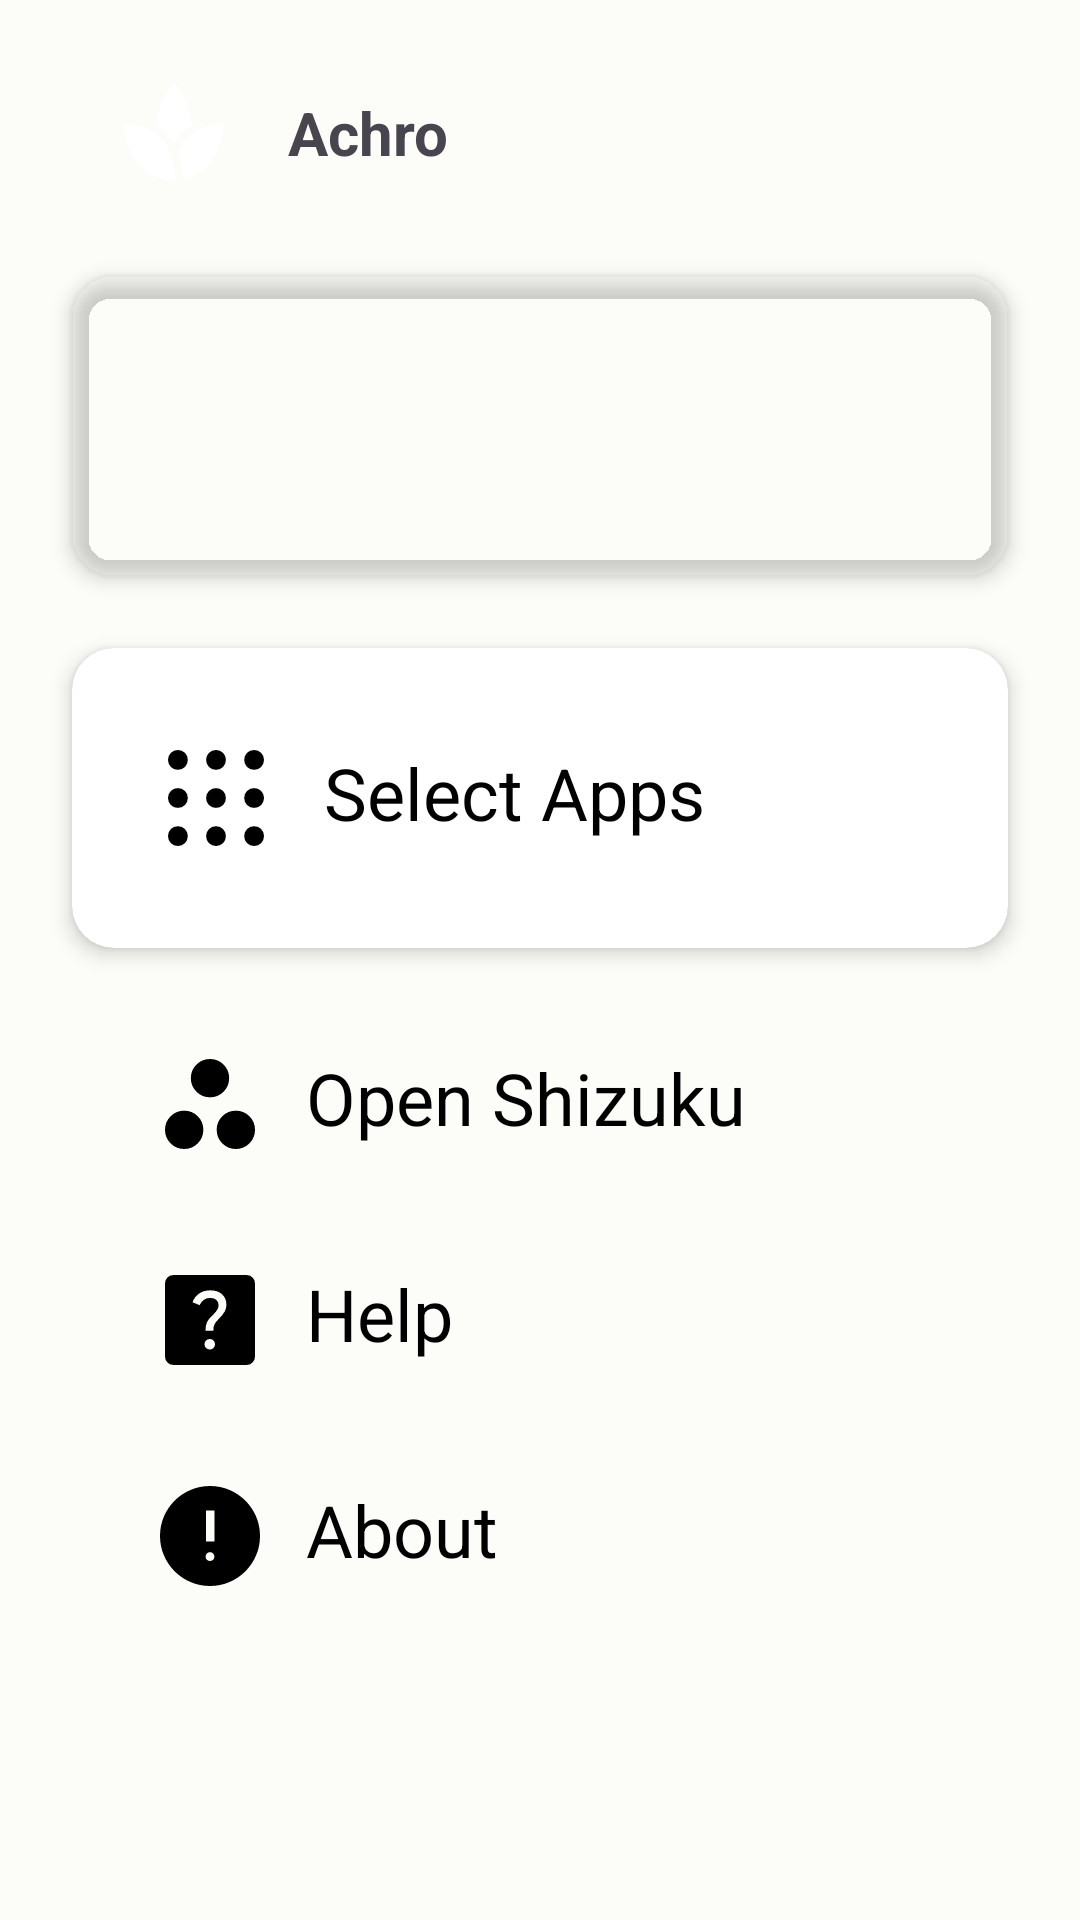

Icons on this 1080*1920 Android screen, each with its box as Rect(x1, y1, x2, y2):
error: Rect(160, 1486, 260, 1586)
